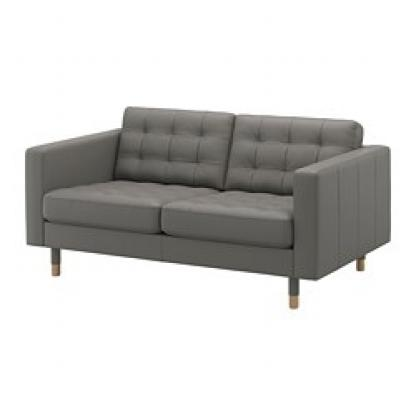Sofa: (18, 80, 391, 313)
